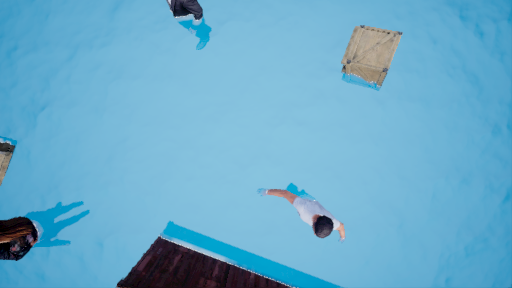person: (264, 180, 342, 245)
